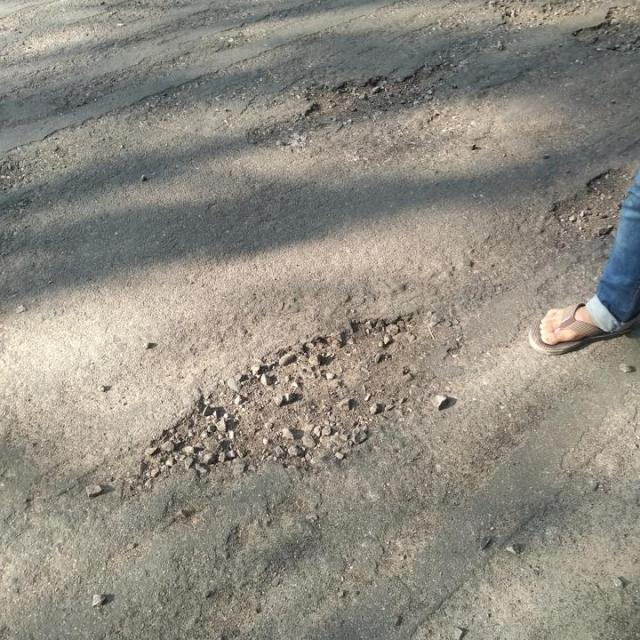Pothole: (130, 304, 444, 496), (301, 62, 458, 128), (549, 164, 631, 243), (490, 1, 608, 35), (574, 1, 640, 54)
